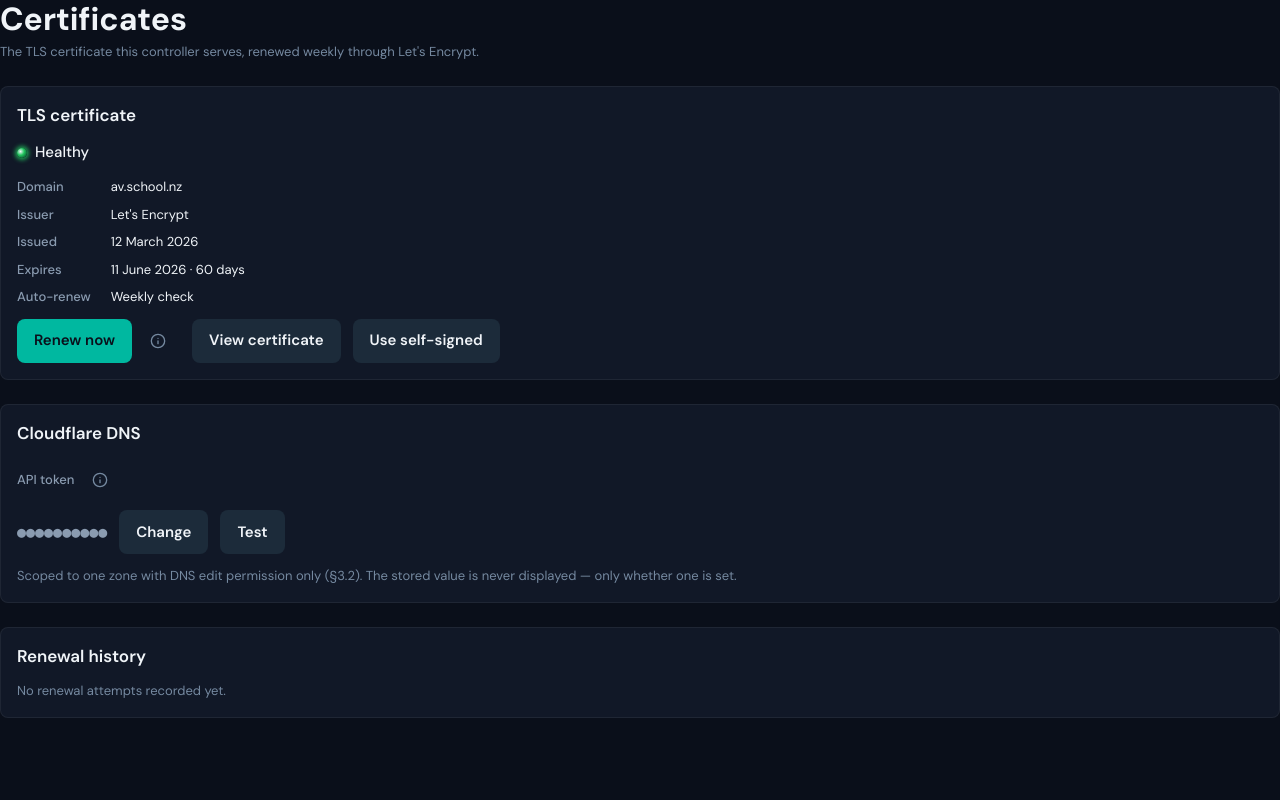
Test case: CertificatesScreen — "Use self-signed" (§21.24, §6.16, contracts §5 wave 3) › reports a failure inline rather than silently
This screenshot has width=1280, height=800.
Click the button "Use self-signed". click: [426, 341]
box: [353,319,500,363]
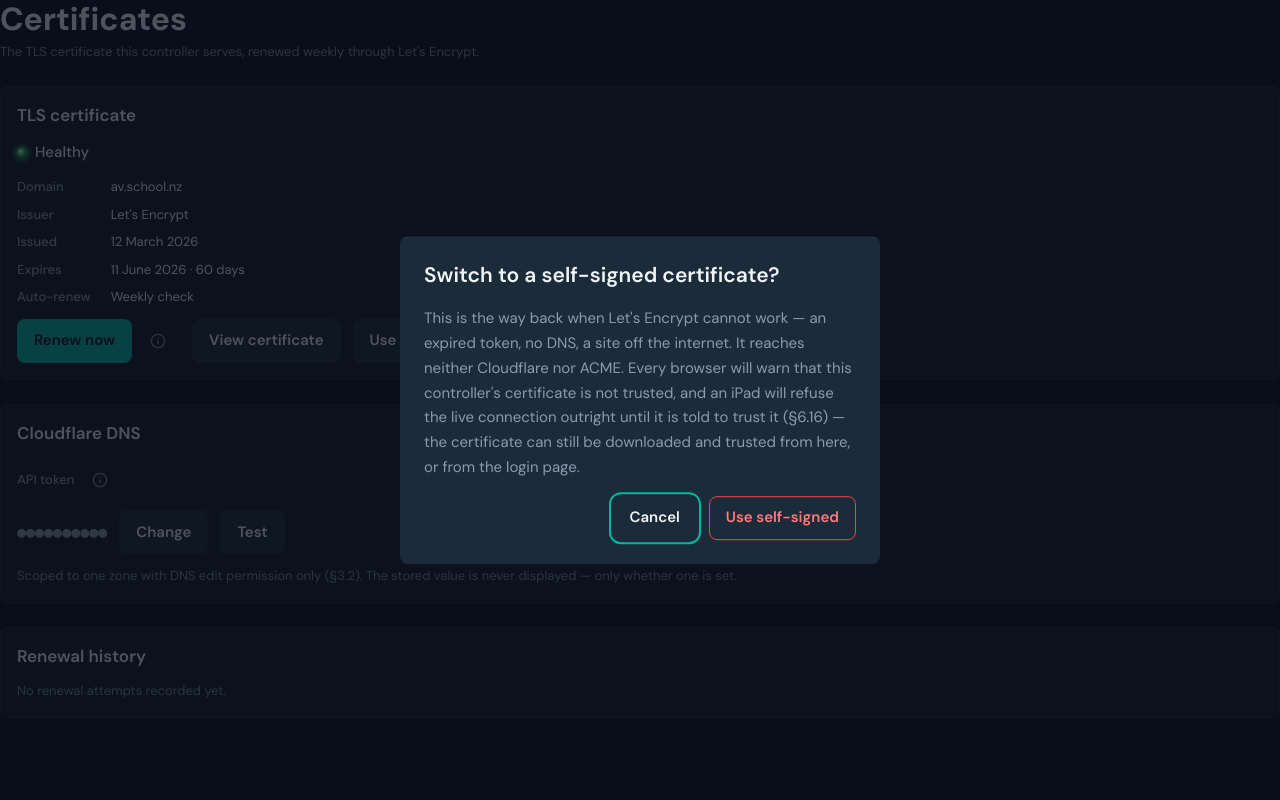
Click the button "Use self-signed". click: [782, 518]
box: [709,496,856,540]
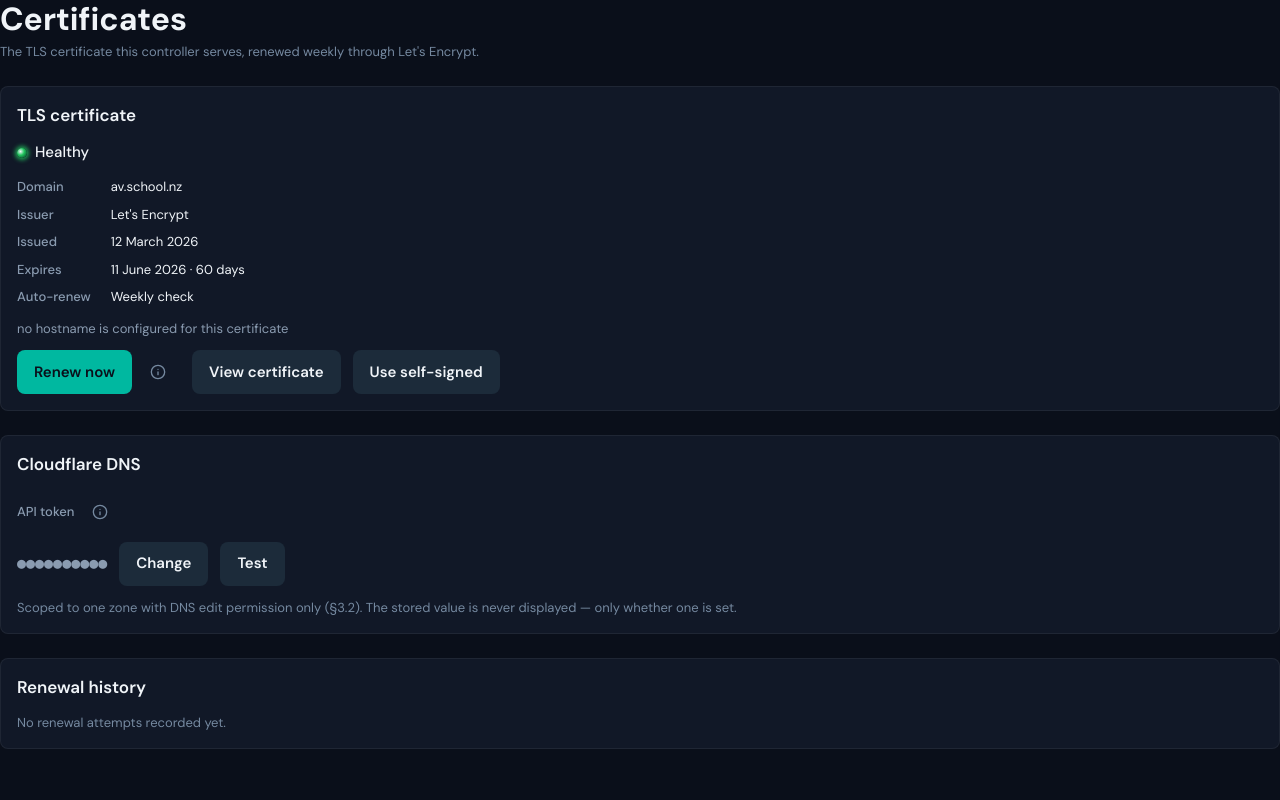
Now the text "no hostname is configured for this certificate" is shown, box [17,320,288,337]
